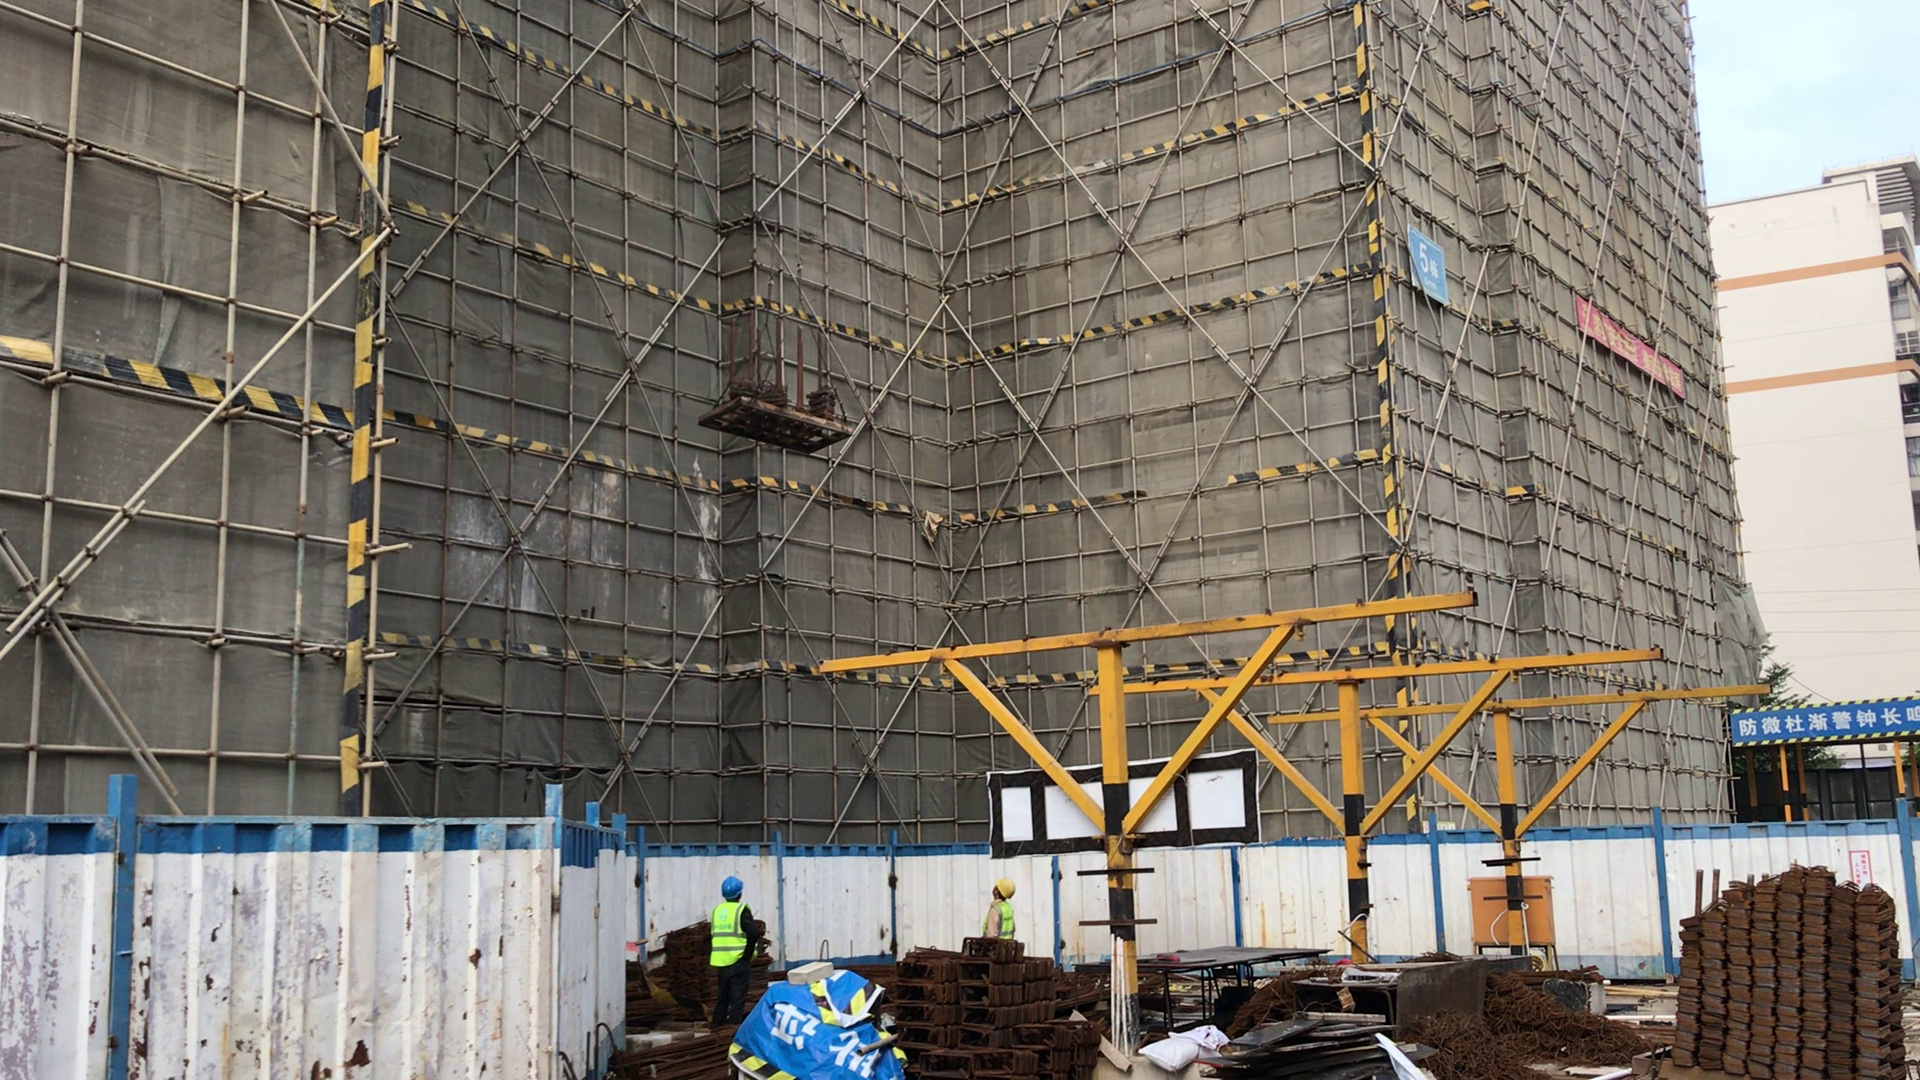helmet: (721, 875, 742, 896), (995, 878, 1015, 897)
person: (709, 876, 760, 1032), (983, 881, 1016, 938)
slogan: (1577, 296, 1688, 397), (1733, 700, 1920, 742)
vest: (709, 903, 748, 968), (997, 905, 1015, 937)
